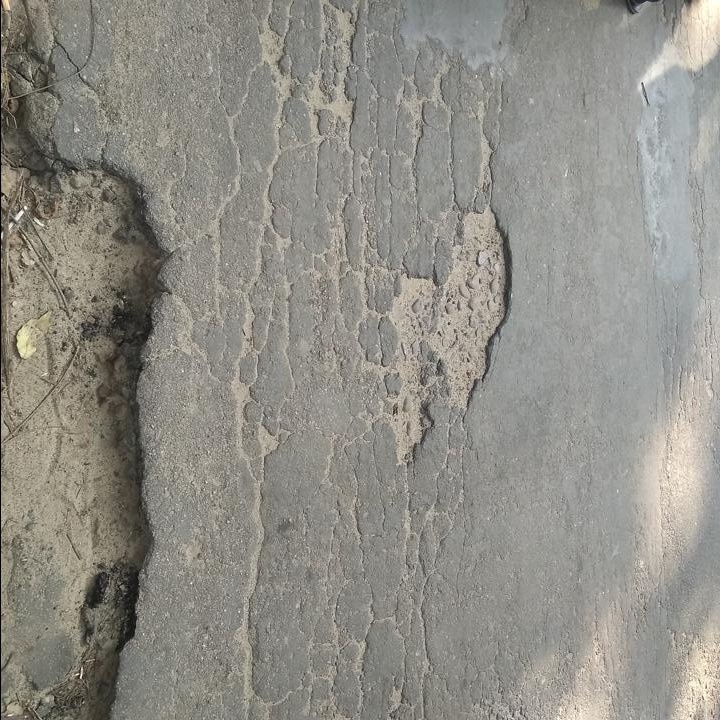pothole: (1, 24, 183, 719), (387, 204, 516, 472)
